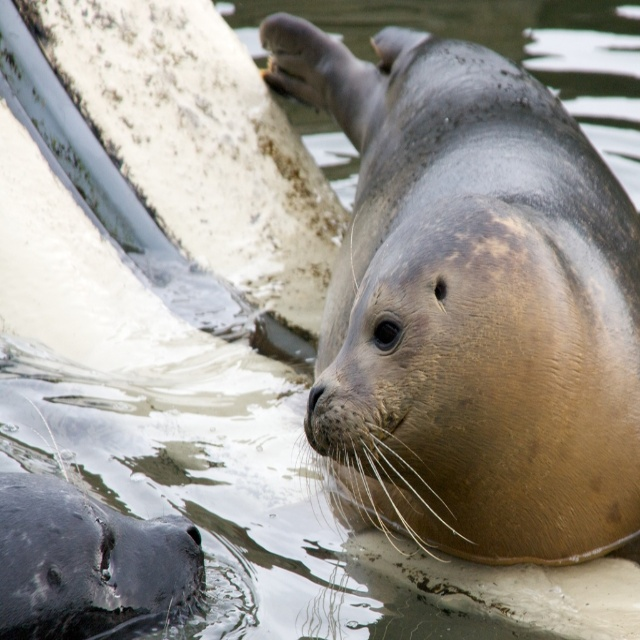Harbor seal: (259, 7, 640, 572), (0, 393, 222, 639)
